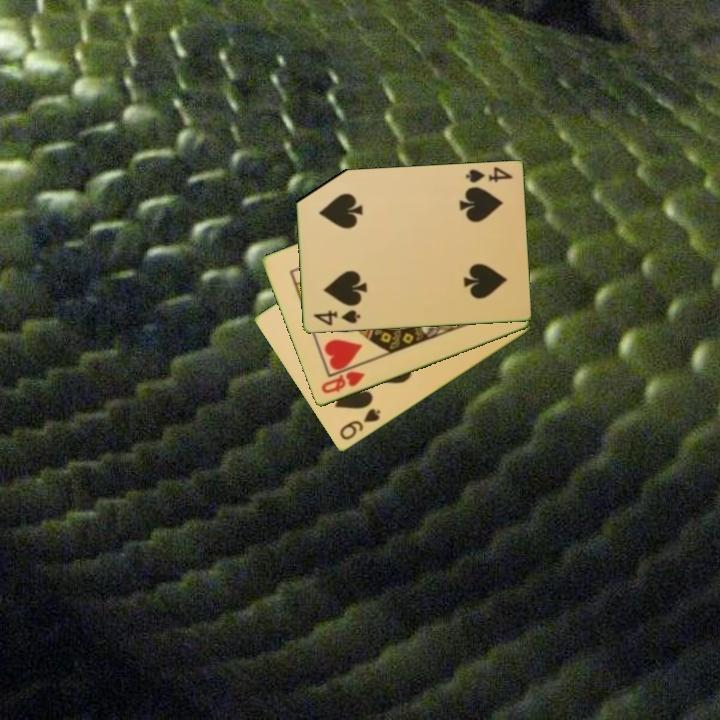4s: (462, 163, 515, 186), (310, 307, 363, 329)
9s: (336, 405, 384, 444)
Qh: (317, 368, 368, 397)
